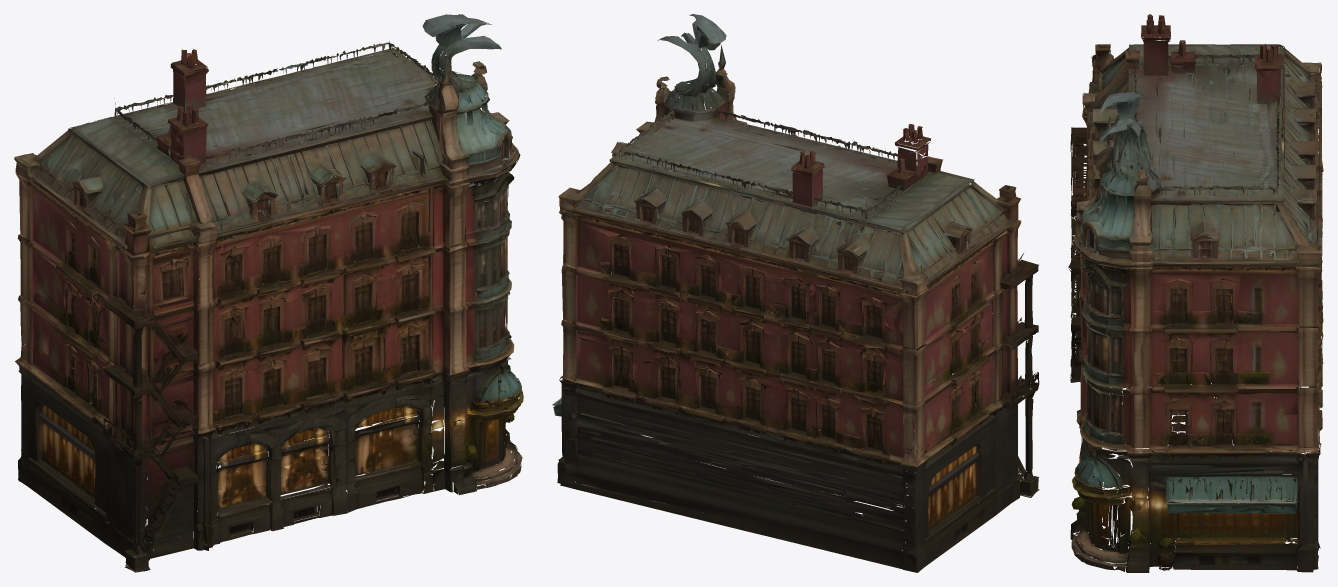
File: ch03_landmark_copper_heron_hotel 2.glb
3 renders of one model, left to right at view 1: azimuth 30°, elevation 25°; view 2: azimuth 150°, elevation 25°; view 3: azimuth 270°, elevation 25°, orthographic. The views are drawn at different scales.
Parts seen in each view (by area): view 1: material; view 2: material; view 3: material.
Part boxes in pixels (<box>): material: <box>14,14,523,572</box>; material: <box>552,14,1039,572</box>; material: <box>1068,14,1323,572</box>.
Size of the model in its own units: 0.7957 by 0.8083 by 0.4189.
1 material, 1 textured.
